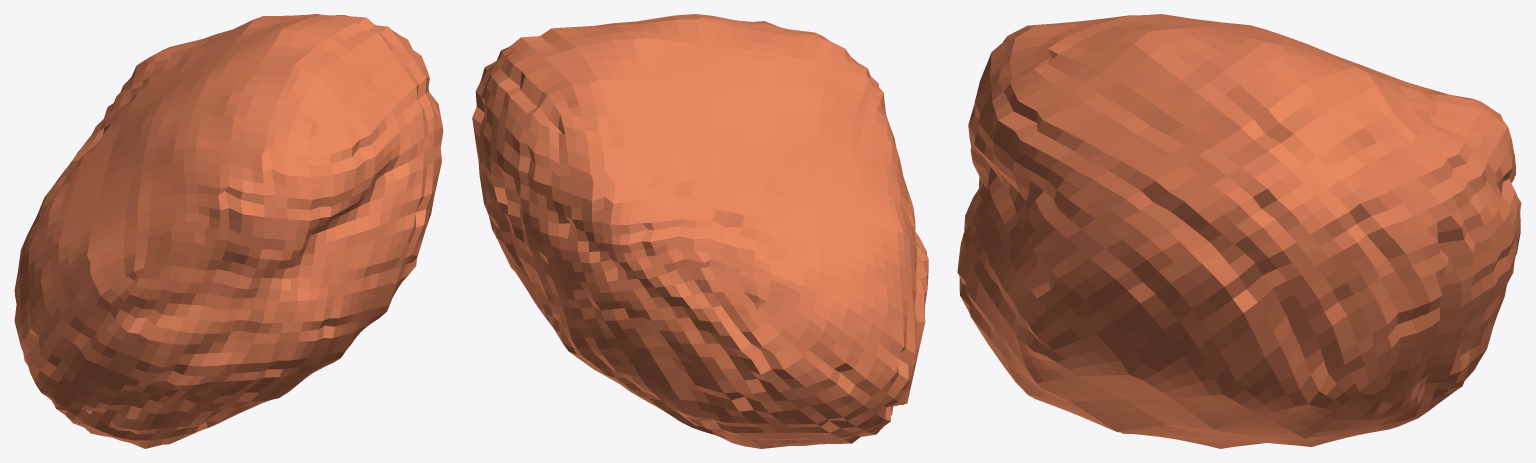
The model's file is bigStone2.fbx.
The picture shows the model from 3 angles, left to right: view 1: azimuth 30°, elevation 25°; view 2: azimuth 150°, elevation 25°; view 3: azimuth 270°, elevation 25°; orthographic projection. The views are drawn at different scales.
Visible parts, largest first — view 1: Cube.008; view 2: Cube.008; view 3: Cube.008.
Boxes of the visible parts, bbox=[...] form: Cube.008: bbox=[14, 14, 443, 448]; Cube.008: bbox=[472, 14, 928, 448]; Cube.008: bbox=[957, 14, 1521, 448].
Size of the model in its own units: 1046 by 878 by 908.
